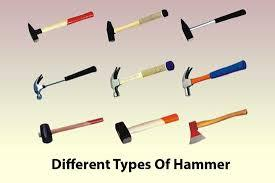hammer: (108, 58, 176, 99), (179, 57, 246, 96), (31, 63, 98, 100)
